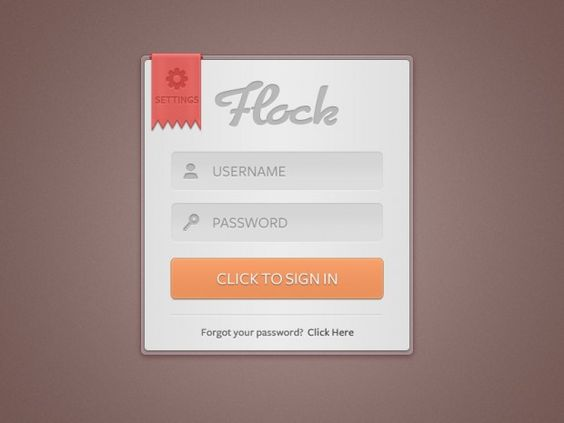button: (170, 257, 384, 300)
field: (172, 202, 384, 241), (171, 151, 382, 190)
